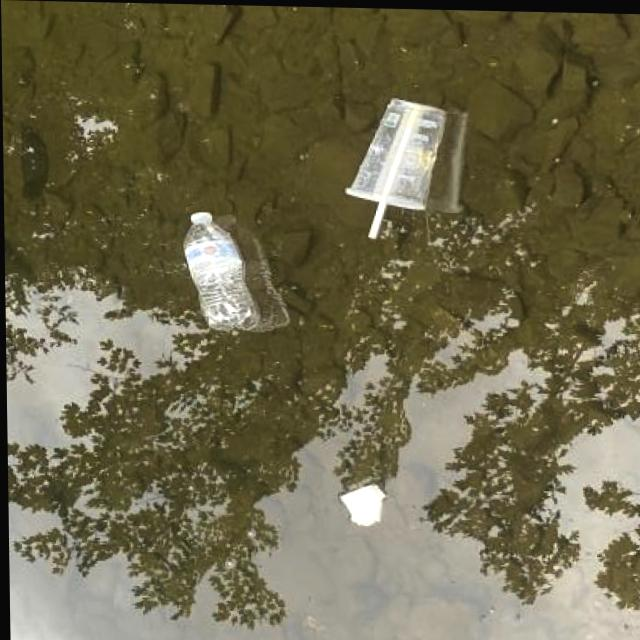Paper: (327, 473, 392, 531)
Plastic: (335, 89, 461, 248), (176, 207, 267, 337)
